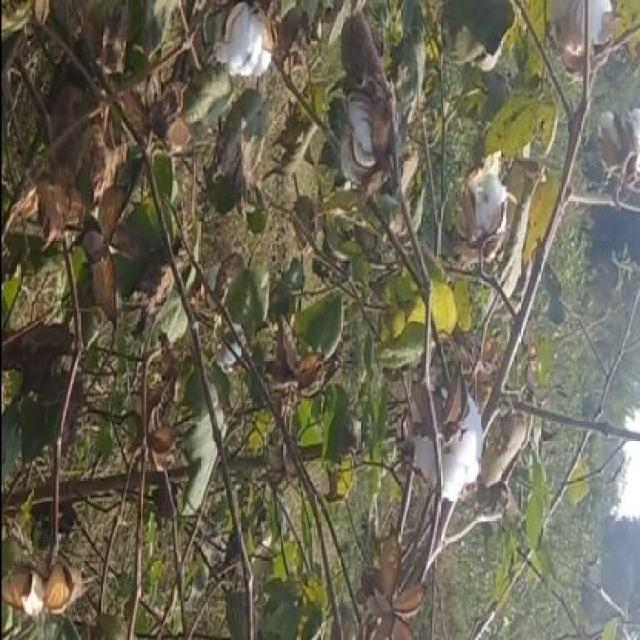cotton_ready: (421, 373, 490, 502), (336, 99, 404, 210), (203, 4, 286, 90)
